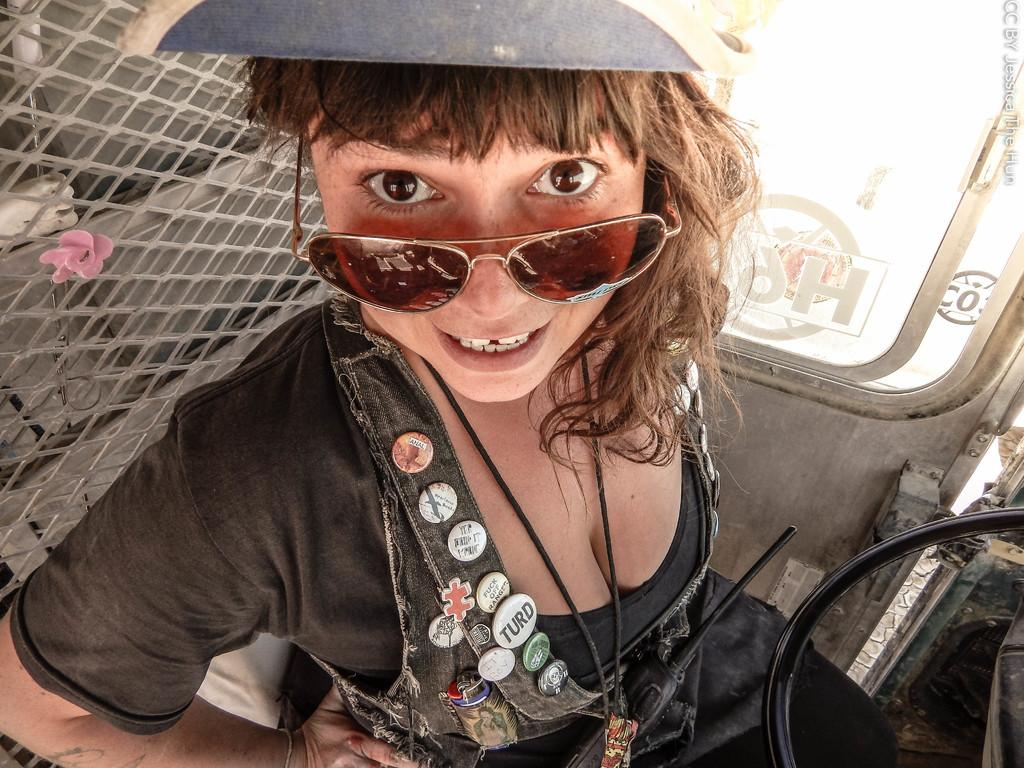Hat: (118, 0, 739, 71)
